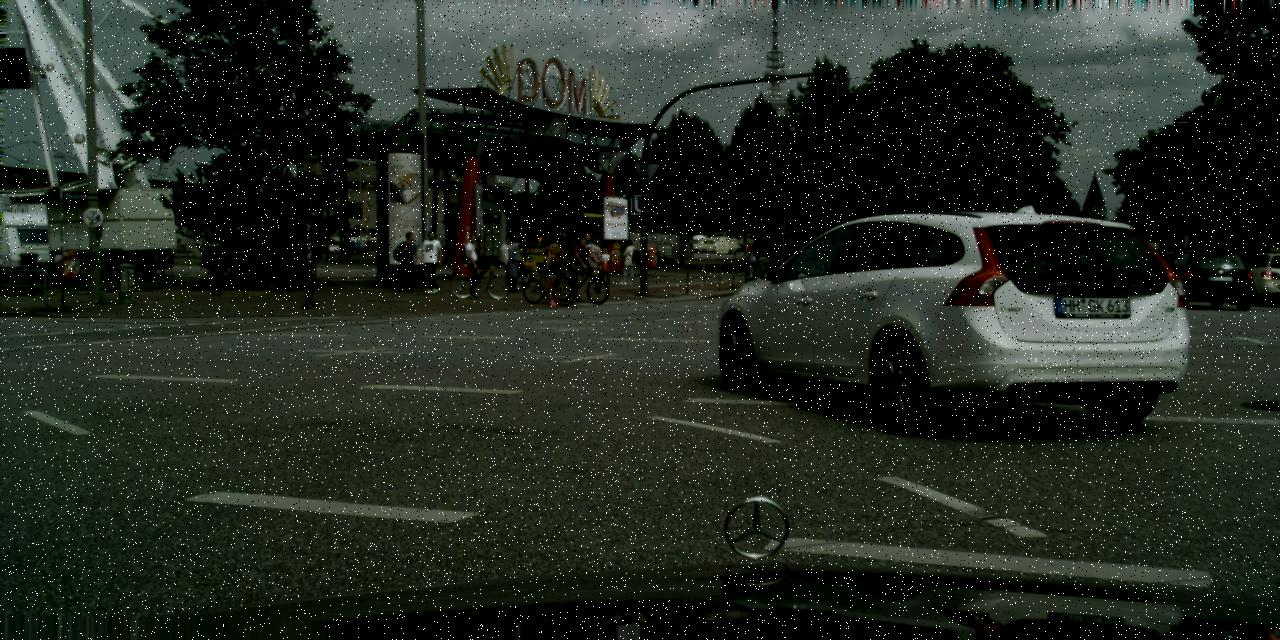ped: (419, 230, 444, 294), (395, 230, 419, 290), (462, 233, 485, 290), (544, 244, 567, 300), (568, 238, 590, 293), (499, 235, 519, 288), (504, 242, 525, 292), (544, 235, 564, 286), (576, 234, 596, 281), (620, 238, 638, 284), (548, 236, 566, 280), (586, 239, 602, 281), (741, 237, 755, 272), (598, 248, 612, 282), (523, 253, 536, 286), (353, 238, 359, 253), (360, 239, 366, 254), (368, 239, 373, 254)
